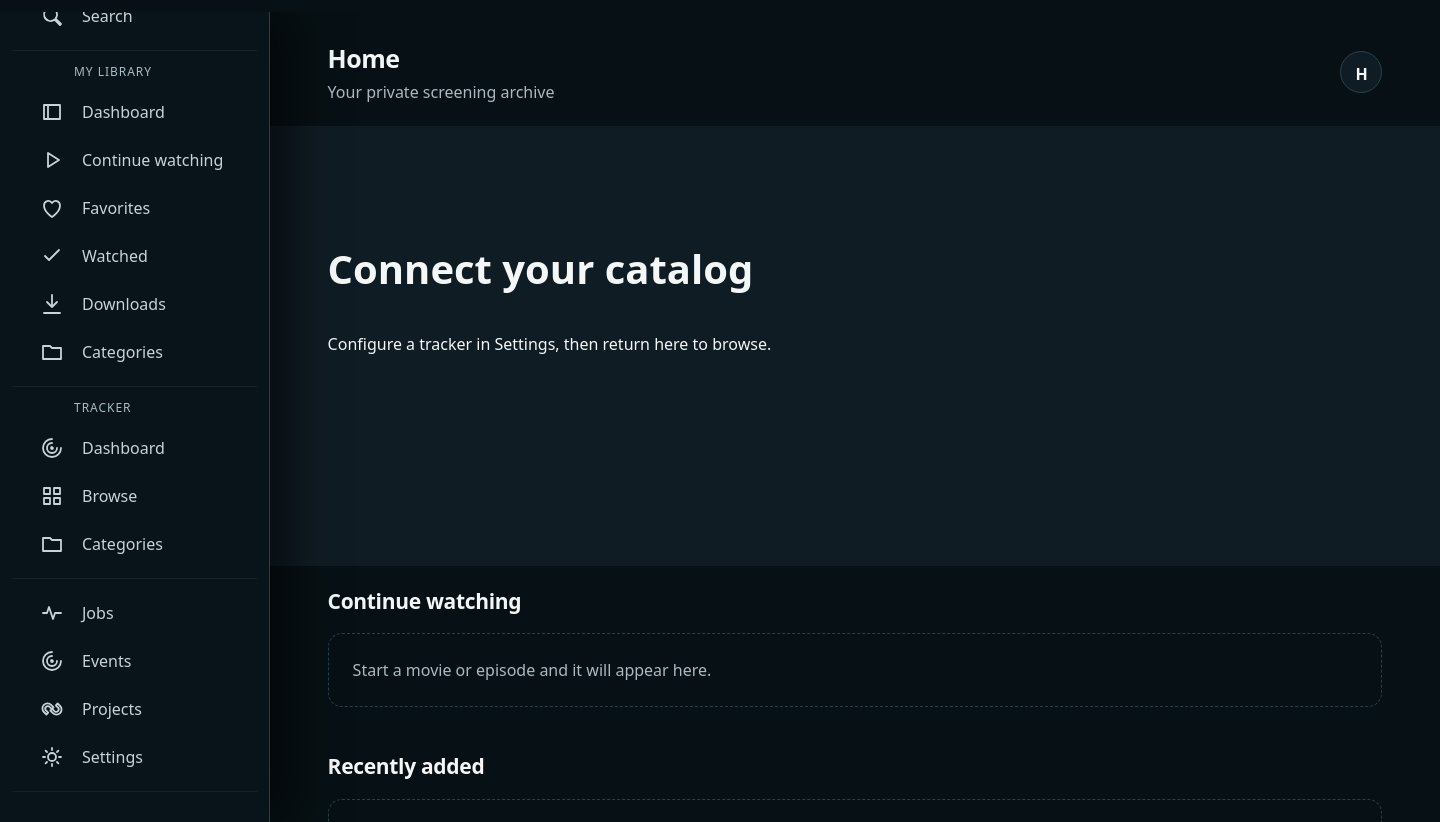
projects page › an empty link list renders the empty state and never a project card
(page scrolled)
Click the button "Projects" at (135, 709), box [12,685,258,733]
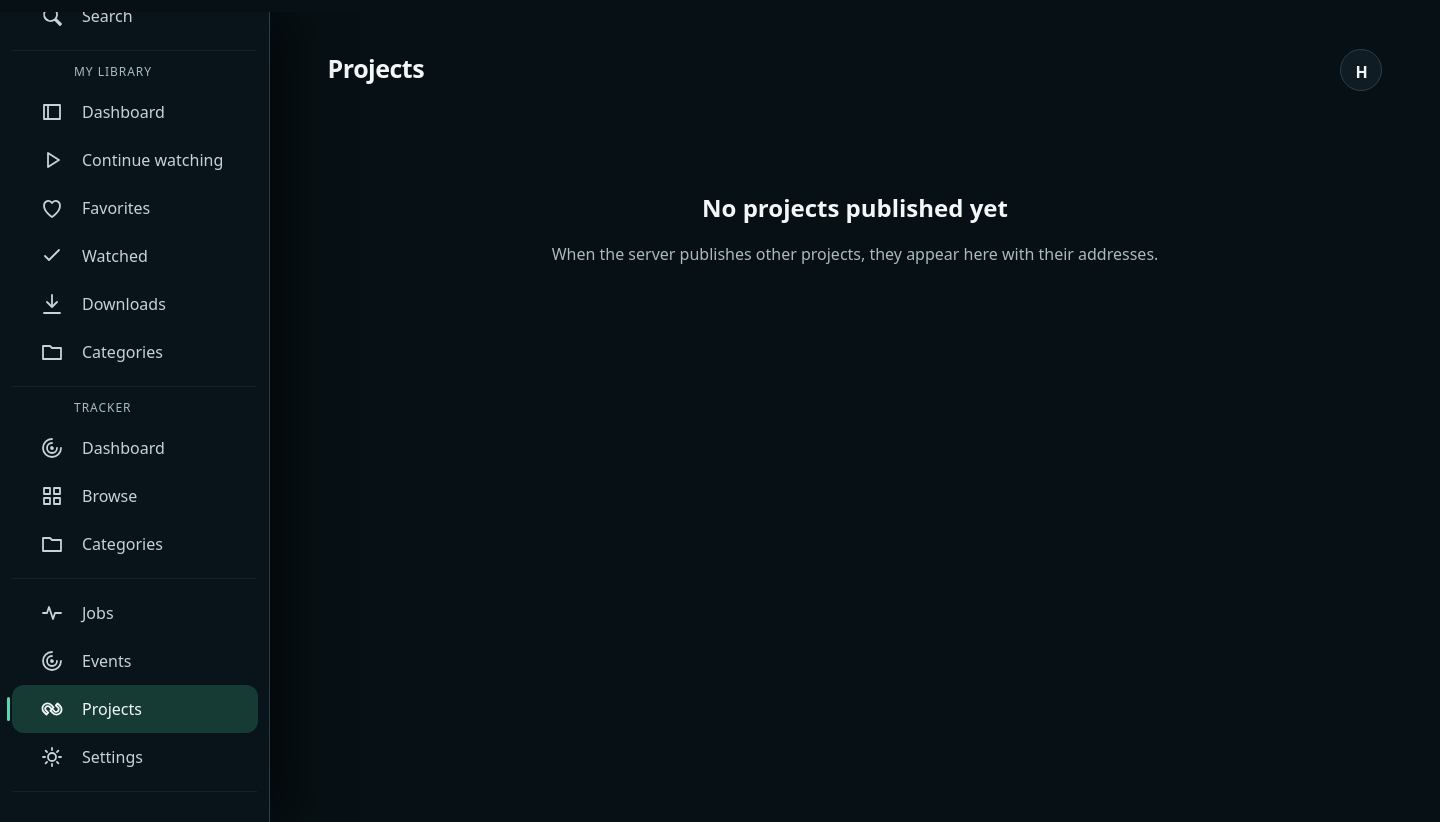
Now the element that starts with "No projects published yet" is shown, box [552,191,1158,265]
